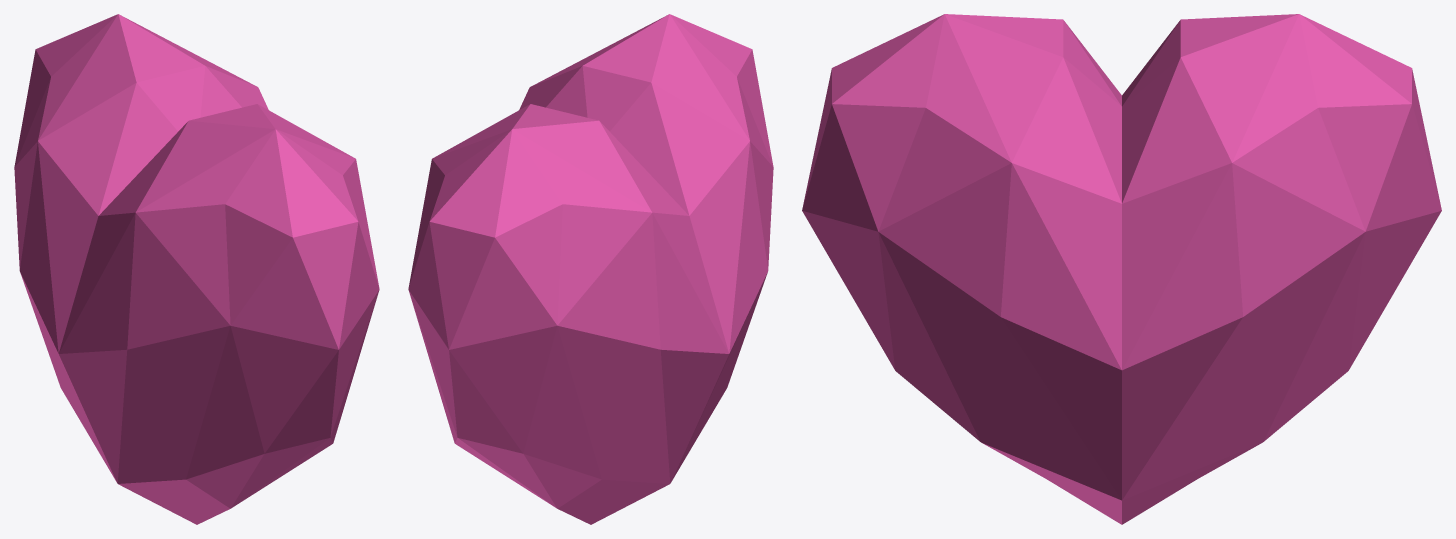
File: gem.glb
3 renders of one model, left to right at view 1: azimuth 30°, elevation 25°; view 2: azimuth 150°, elevation 25°; view 3: azimuth 270°, elevation 25°, orthographic. The views are drawn at different scales.
Visible parts, largest first — view 1: heart_gem; view 2: heart_gem; view 3: heart_gem.
Boxes of the visible parts, left/top/right/bottom form: heart_gem: left=14, top=14, right=379, bottom=524; heart_gem: left=408, top=14, right=773, bottom=524; heart_gem: left=802, top=14, right=1441, bottom=524.
Size of the model in its own units: 0.1443 by 0.2259 by 0.2564.
